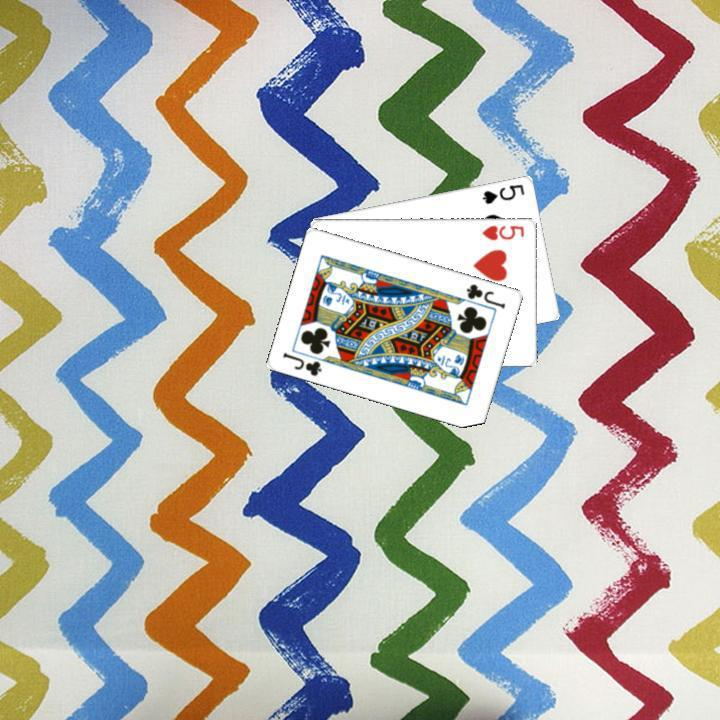5: (478, 179, 527, 206), (478, 221, 526, 242)
J: (462, 279, 508, 310), (279, 347, 324, 378)
